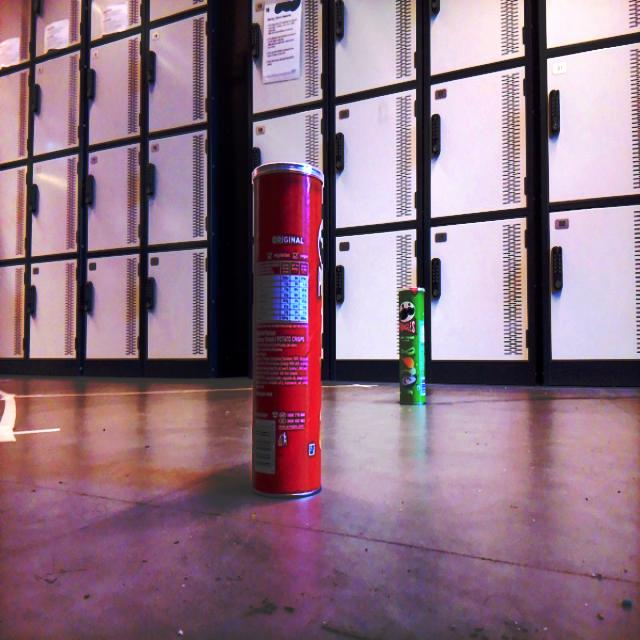greenpringles: (394, 280, 437, 408)
redpringles: (245, 154, 332, 502)
